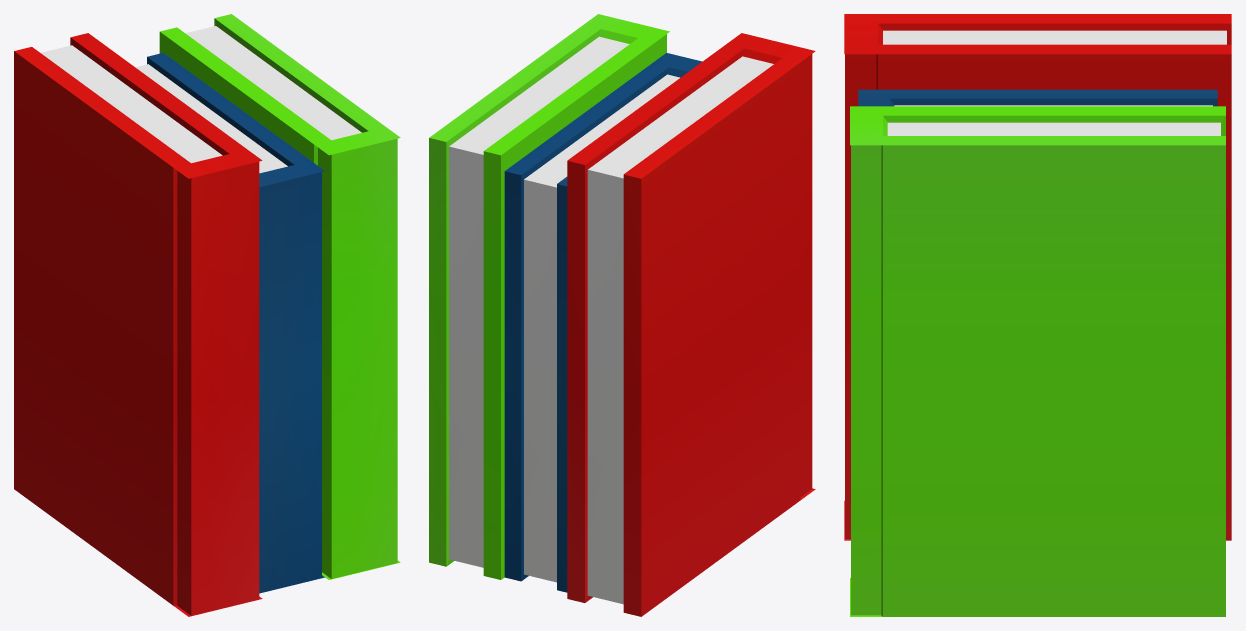
Rendered from book1.fbx.
3 views of the same model, side by side, from view 1: azimuth 30°, elevation 25°; view 2: azimuth 150°, elevation 25°; view 3: azimuth 270°, elevation 25° (orthographic). The views are drawn at different scales.
Parts seen in each view (by area): view 1: Cube.001; view 2: Cube.001; view 3: Cube.001.
Part boxes in pixels (bbox=[...]): Cube.001: bbox=[14, 14, 400, 616]; Cube.001: bbox=[429, 14, 815, 616]; Cube.001: bbox=[844, 14, 1231, 616].
Size of the model in its own units: 92.09 by 179 by 130.
